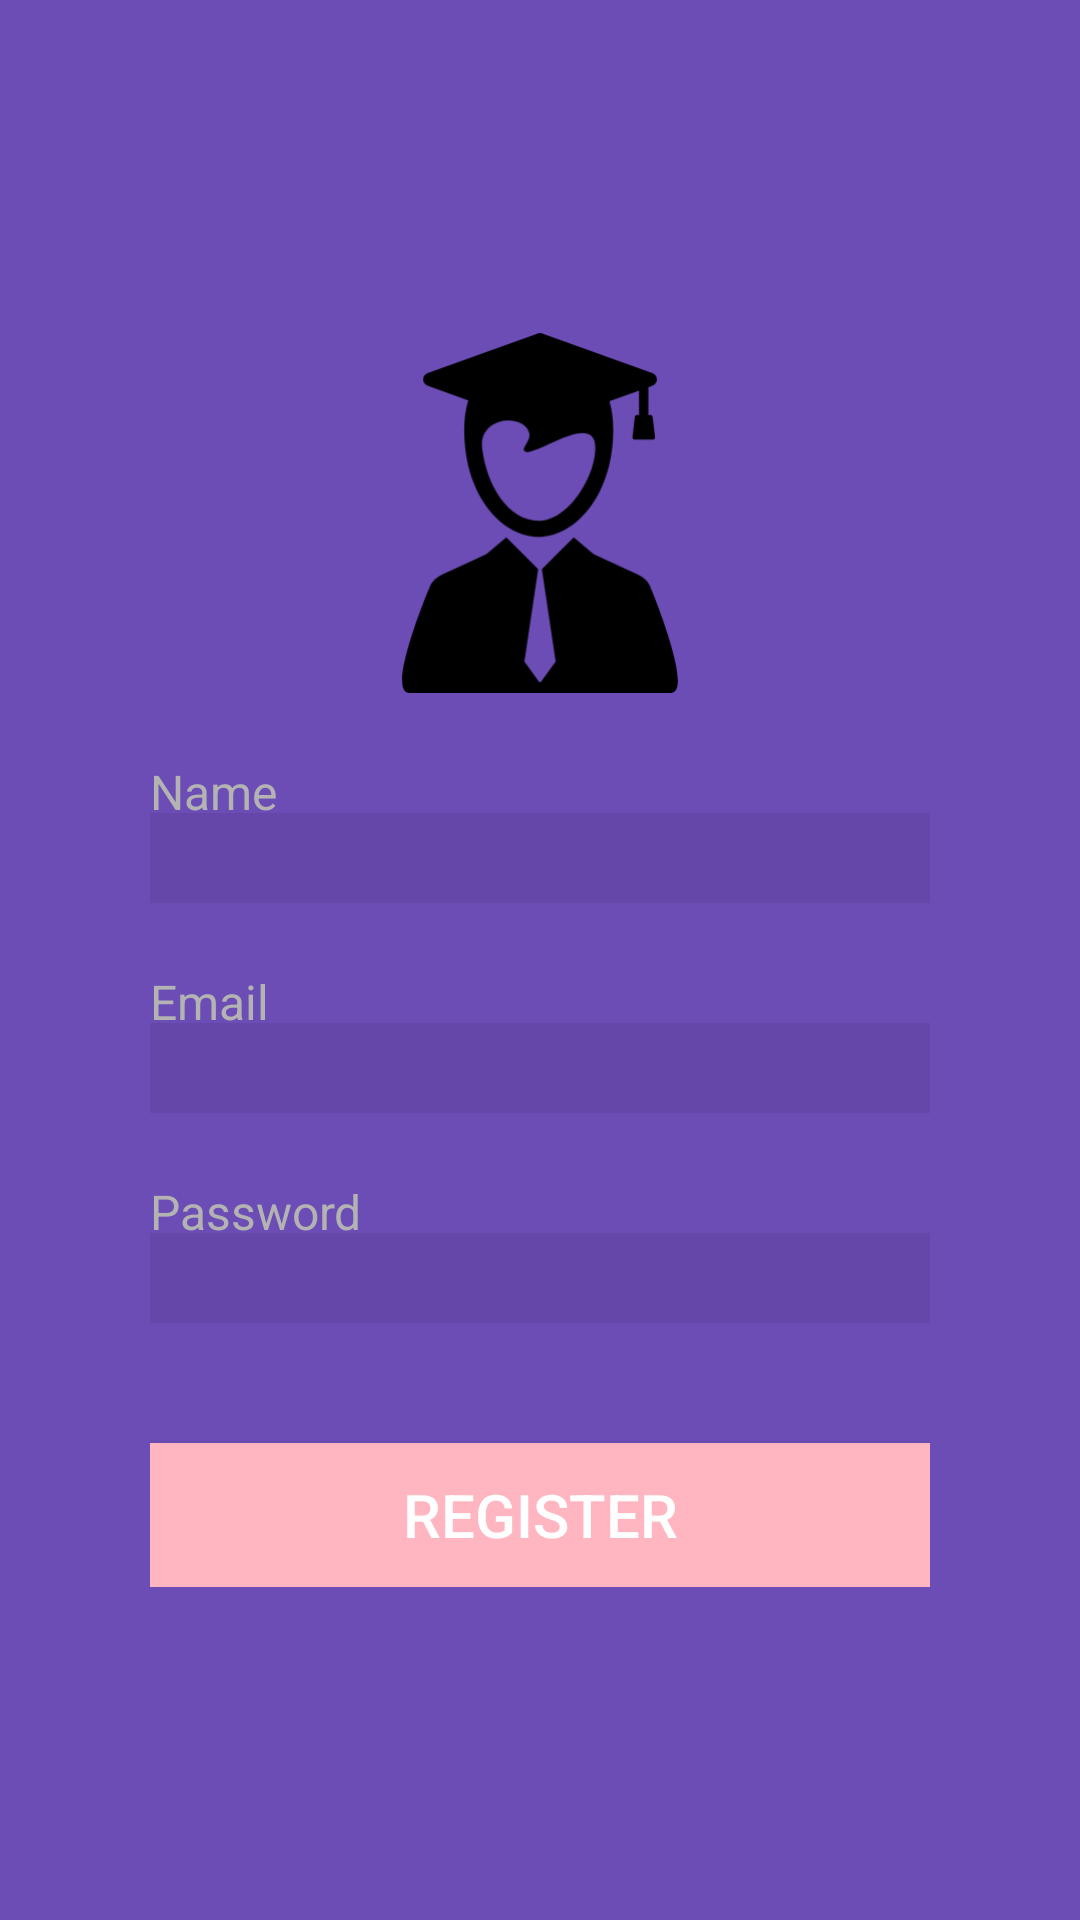

Icons on this 1080 x 1920 Android screen, each with the point to tap as (x=x, y=y):
okhttpstudent: (x=540, y=513)
